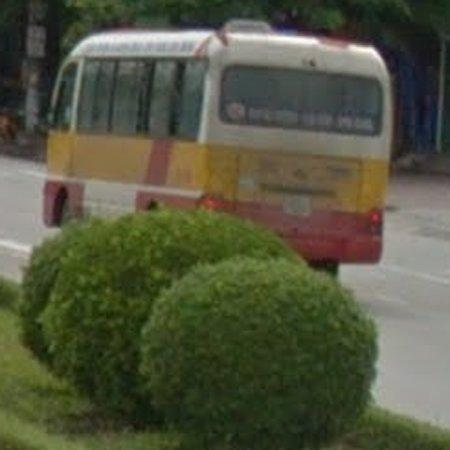buses: (43, 20, 393, 266)
